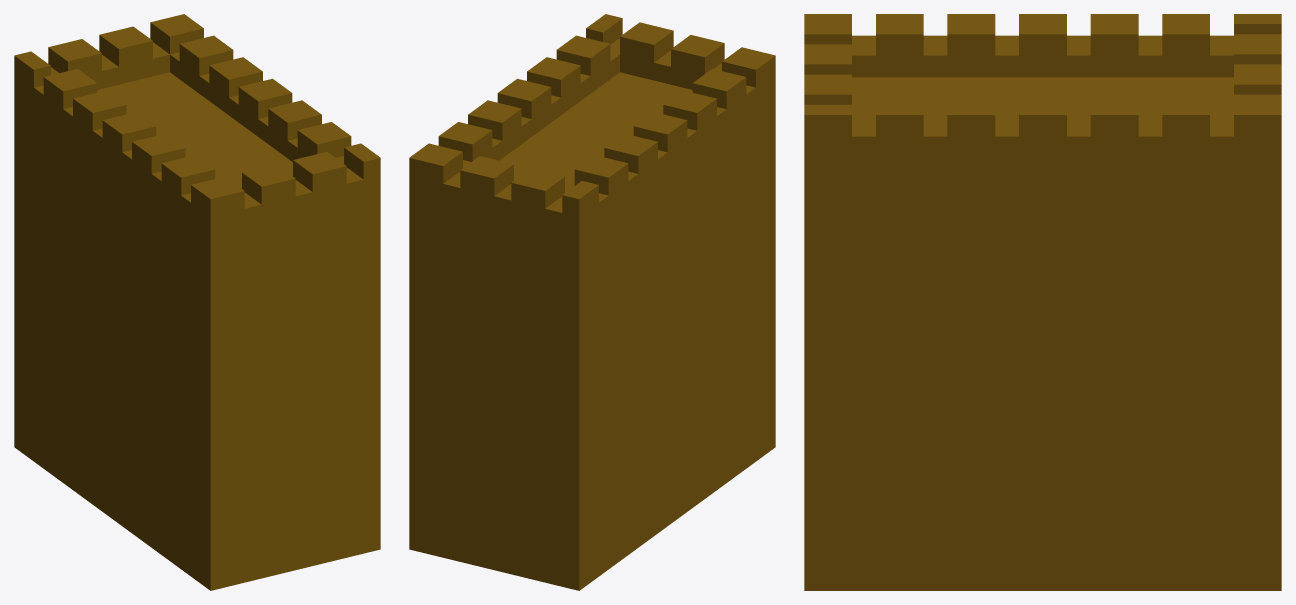
The model's file is ground1_wall.fbx.
The picture shows the model from 3 angles, left to right: view 1: azimuth 30°, elevation 25°; view 2: azimuth 150°, elevation 25°; view 3: azimuth 270°, elevation 25°; orthographic projection. The views are drawn at different scales.
Visible parts, largest first — view 1: Matrix; view 2: Matrix; view 3: Matrix.
Part boxes in pixels (x1,y1,x2,y2): Matrix: (14, 14, 380, 590); Matrix: (409, 14, 775, 590); Matrix: (804, 14, 1281, 590).
Size of the model in its own units: 10 by 22 by 20.
